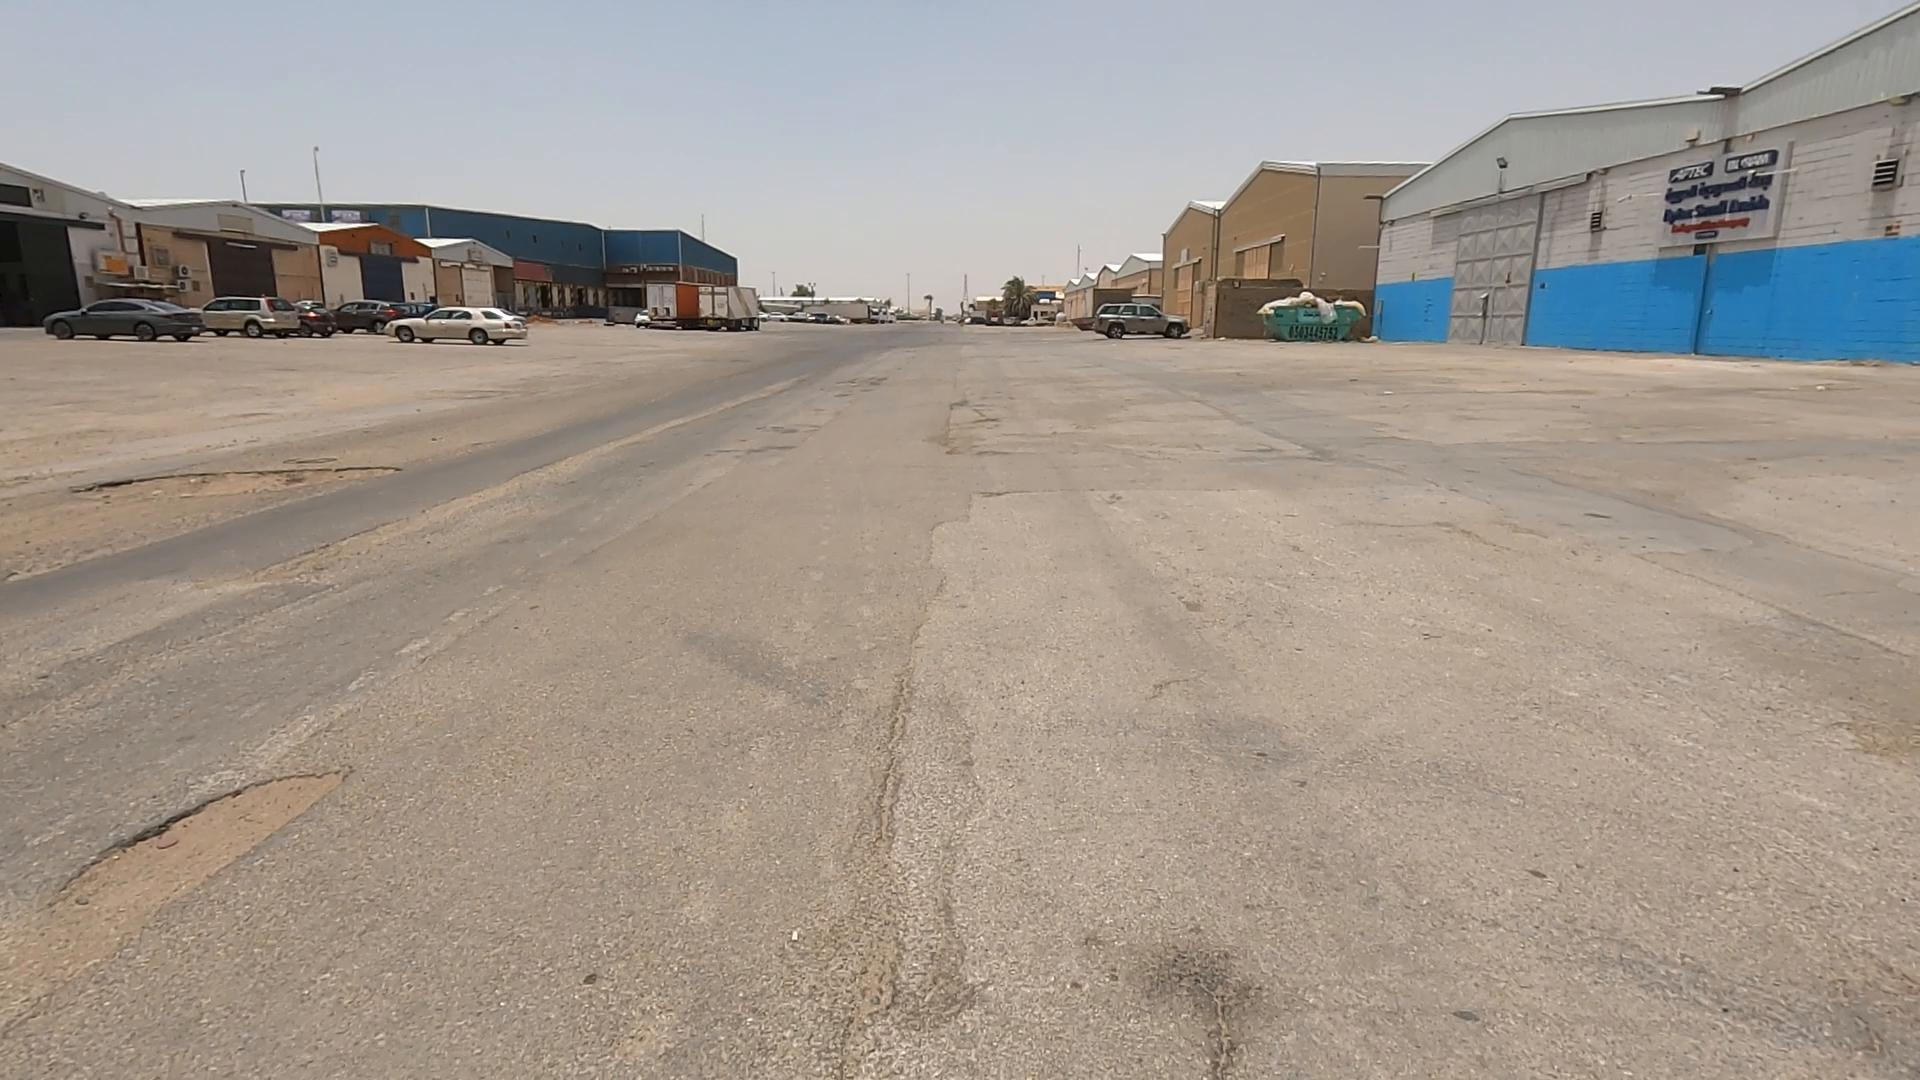Building: (29, 726, 374, 921), (57, 773, 346, 920)
